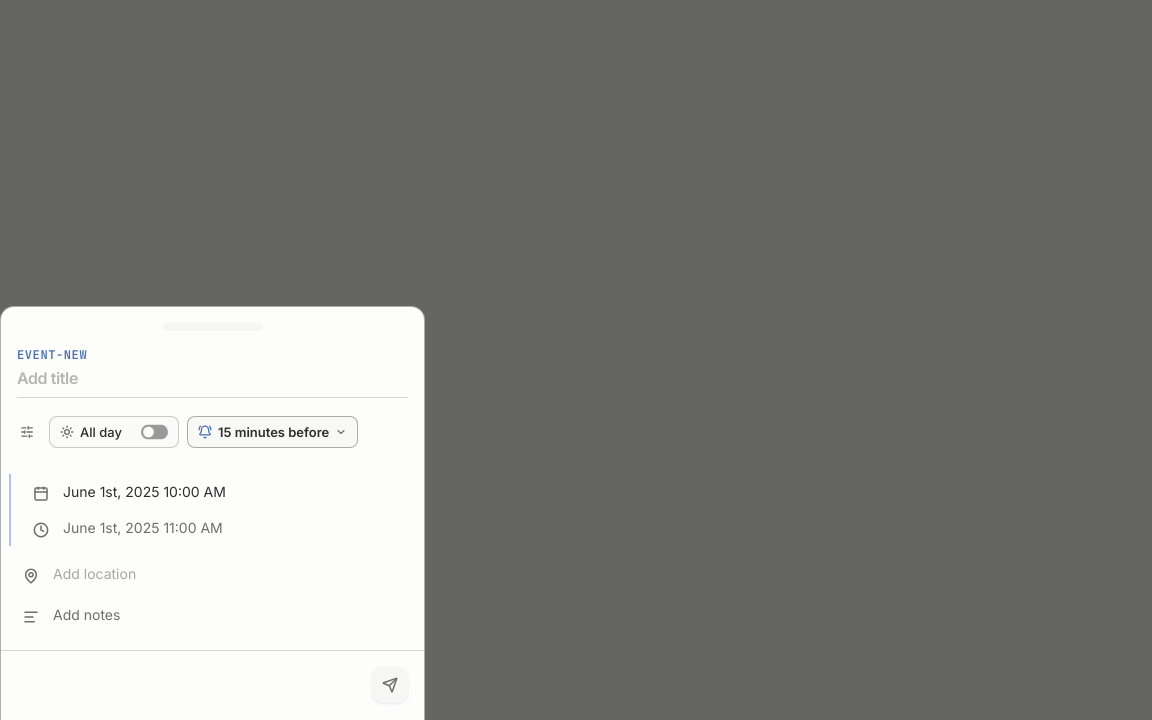
Test: CreateEventDialog — event reminder control › saves the chosen preset
The image size is (1152, 720).
Later steps or results of the test are not shown.
Click the button with aria-label "Reminder" at (273, 432), box [187, 416, 358, 448]
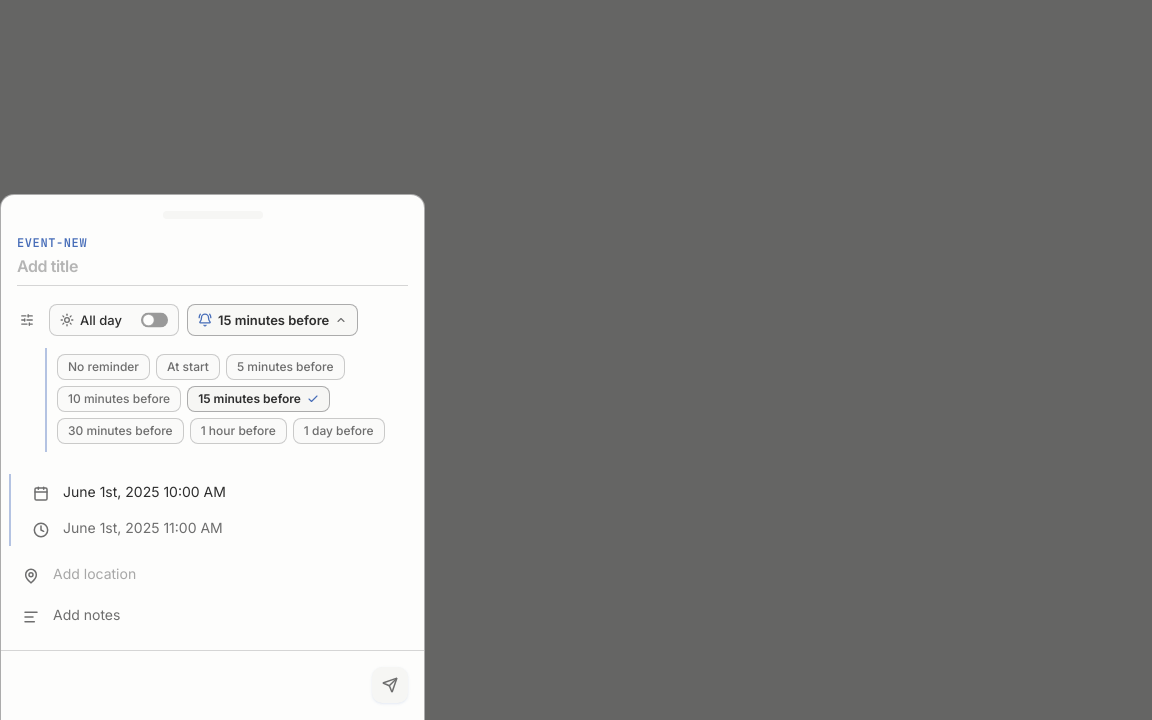
Click the button "1 hour before" at (238, 431), box [190, 418, 287, 444]
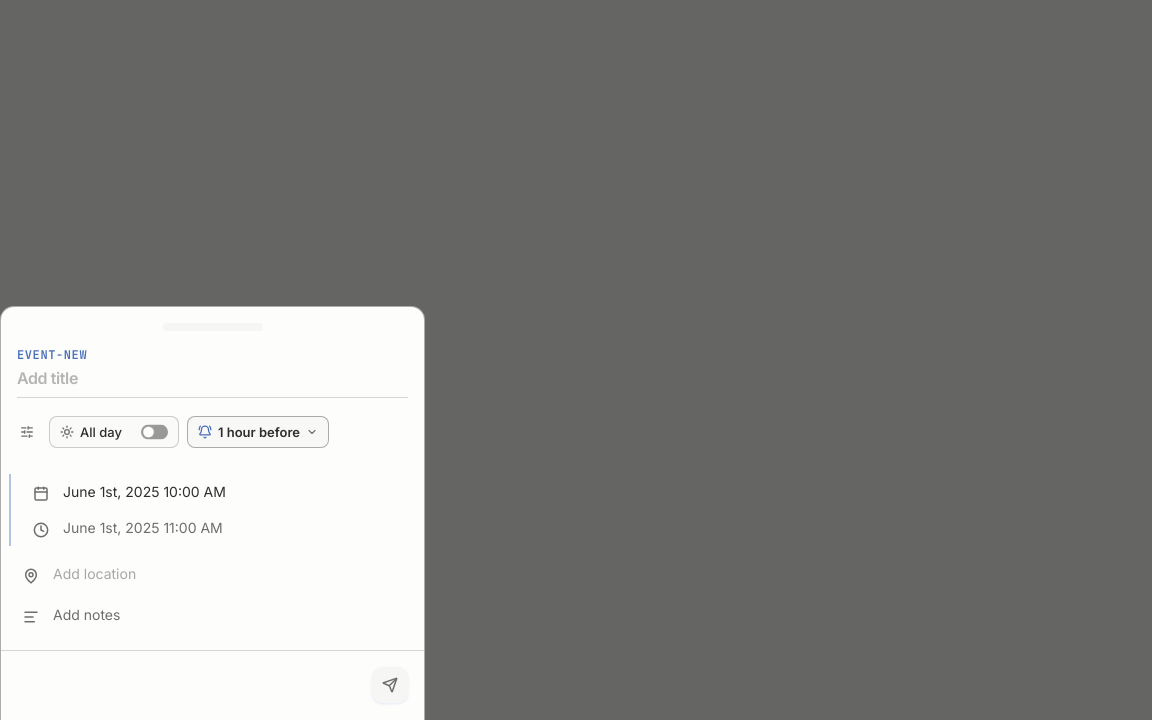
Expected: the button with aria-label "Reminder" reads "1 hour before", [187, 416, 329, 448]
